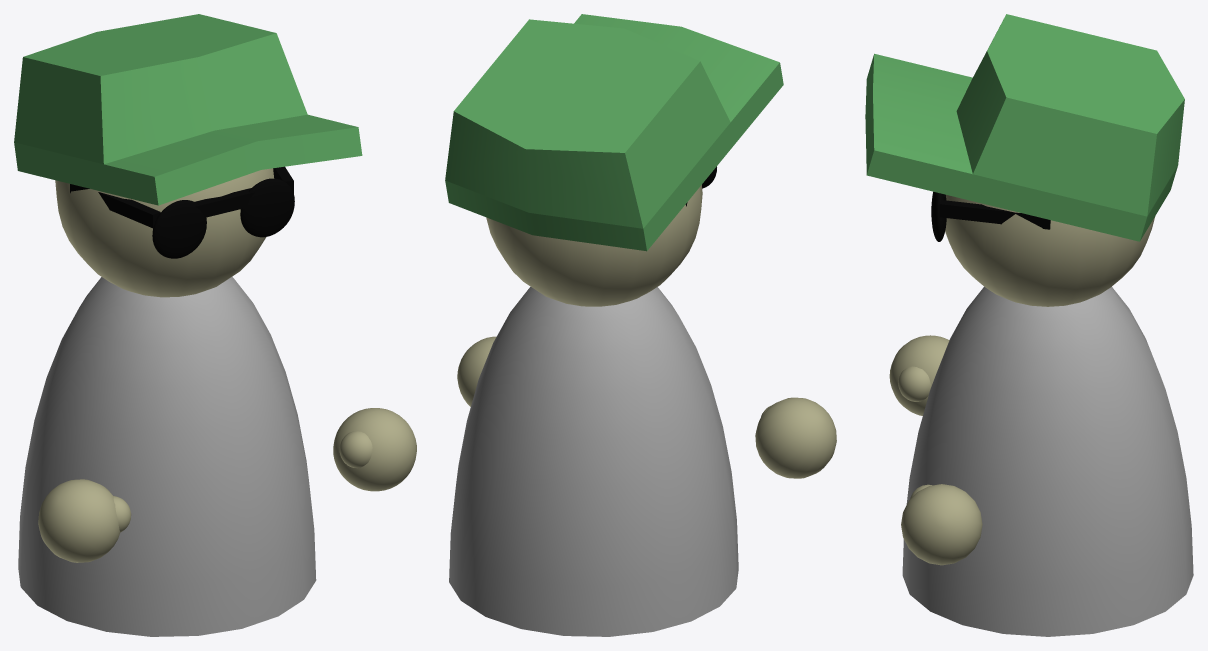
Rendered from PersonPawn_05.fbx.
The picture shows the model from 3 angles, left to right: view 1: azimuth 30°, elevation 25°; view 2: azimuth 150°, elevation 25°; view 3: azimuth 270°, elevation 25°; orthographic projection. The views are drawn at different scales.
Visible parts, largest first — view 1: Body, Hand_R, Hand_L; view 2: Body, Hand_R, Hand_L; view 3: Body, Hand_L, Hand_R.
Part boxes in pixels (bbox=[...]): Body: bbox=[14, 14, 362, 636]; Hand_R: bbox=[38, 479, 131, 562]; Hand_L: bbox=[333, 408, 416, 491]; Body: bbox=[445, 14, 783, 636]; Hand_R: bbox=[755, 397, 836, 478]; Hand_L: bbox=[457, 336, 496, 406]; Body: bbox=[865, 14, 1193, 636]; Hand_L: bbox=[901, 484, 982, 565]; Hand_R: bbox=[889, 335, 949, 415].
Size of the model in its own units: 104 by 144 by 81.84.
